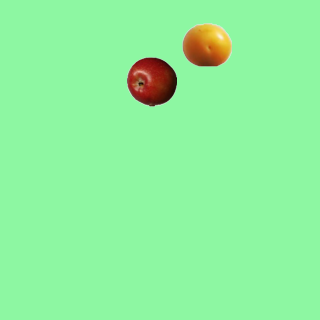Apple Braeburn: (126, 56, 176, 106)
Cherry Wax Yellow: (181, 19, 231, 69)
